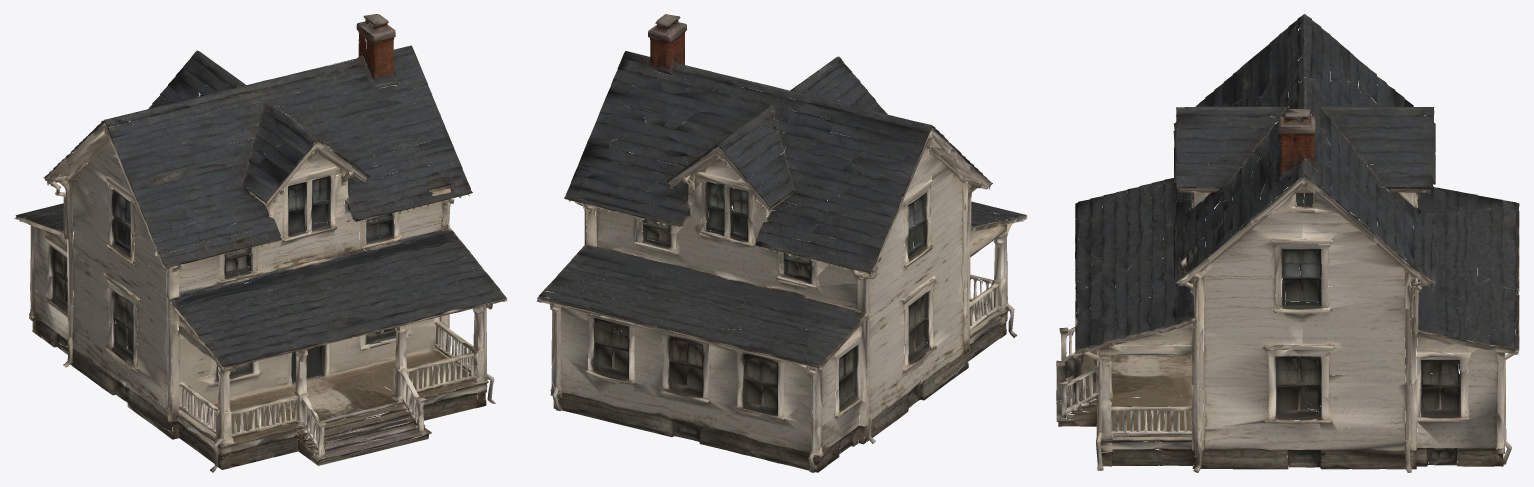
Rendered from farmhouse.glb.
3 renders of one model, left to right at view 1: azimuth 30°, elevation 25°; view 2: azimuth 150°, elevation 25°; view 3: azimuth 270°, elevation 25°, orthographic. The views are drawn at different scales.
Visible parts, largest first — view 1: farmhouse; view 2: farmhouse; view 3: farmhouse.
Part boxes in pixels (x1,y1,x2,y2): farmhouse: (14,14,507,472); farmhouse: (536,14,1027,472); farmhouse: (1056,14,1519,472).
Bounding box in the file's own units: 6.96 × 7 × 8.49.
Materials: 1 (1 with a texture image).
